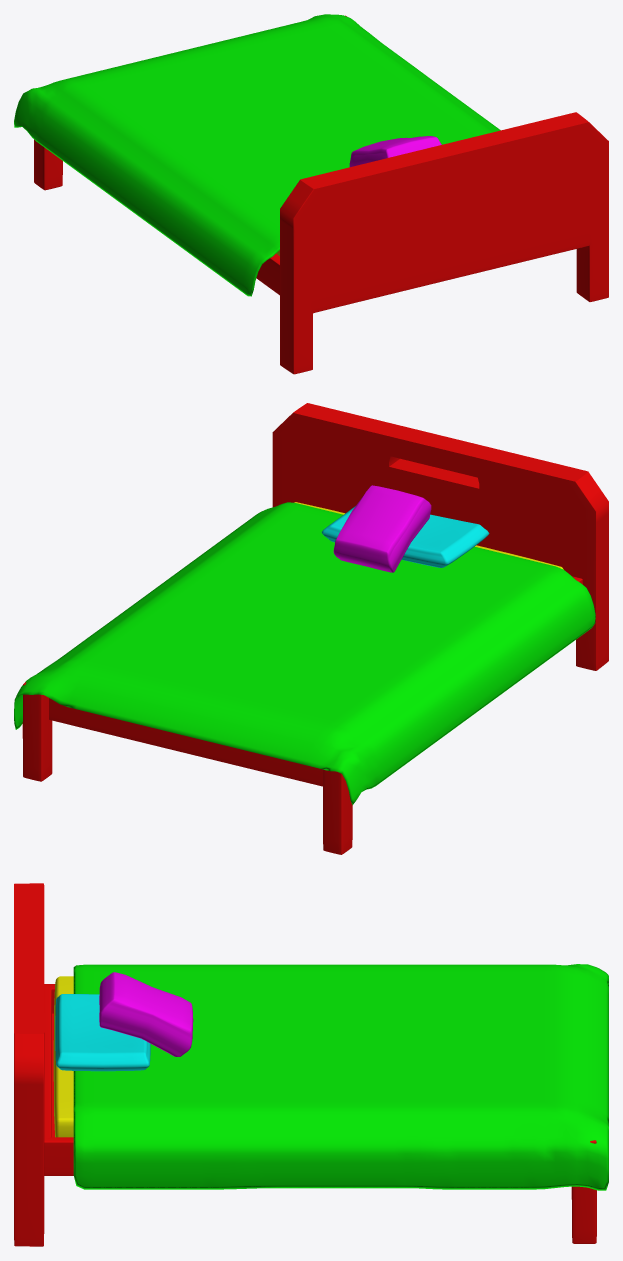
Rendered from PROP_CamaPrimo.fbx.
3 renders of one model, top to bottom at view 1: azimuth 30°, elevation 25°; view 2: azimuth 150°, elevation 25°; view 3: azimuth 270°, elevation 25°, orthographic. The views are drawn at different scales.
Visible parts, largest first — view 1: Edredom, Cama, Almofada; view 2: Edredom, Cama, Almofada, Travesseiro; view 3: Edredom, Cama, Almofada, Travesseiro, Colchao.
Boxes of the visible parts, x1,y1,x2,y2 form: Edredom: (14,14,500,296); Cama: (34,15,608,374); Almofada: (349,136,441,167); Edredom: (14,502,595,804); Cama: (22,403,608,854); Almofada: (333,485,431,572); Travesseiro: (321,506,489,567); Edredom: (73,964,608,1190); Cama: (14,883,596,1246); Almofada: (99,972,193,1056); Travesseiro: (55,994,150,1071); Colchao: (53,976,73,1137).
Size of the model in its own units: 16.9 by 8.79 by 23.46.
